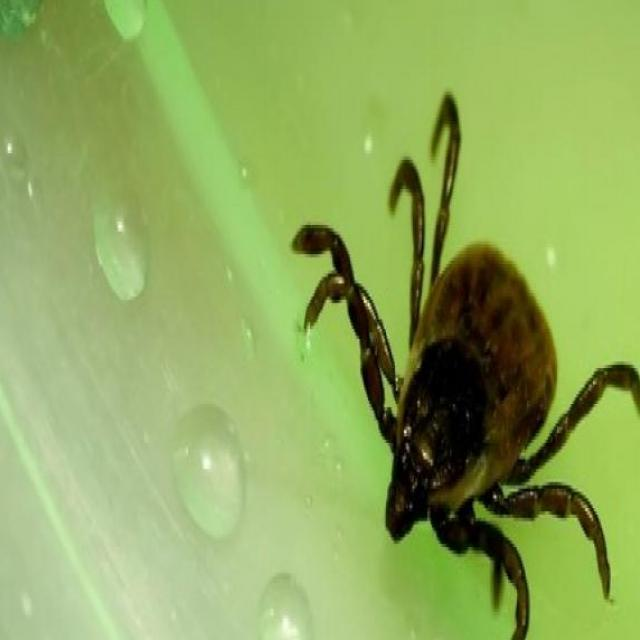Rhipicephalus Sanguineus-F: (288, 91, 640, 640)
